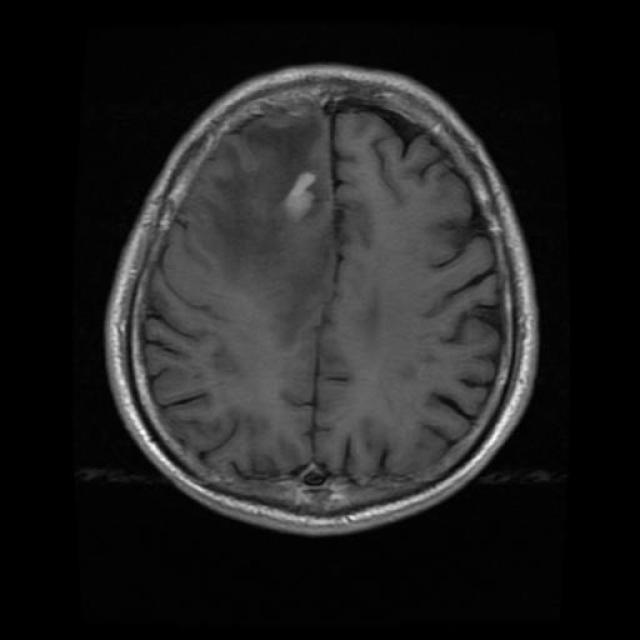brain_tumor: (284, 171, 316, 222)
